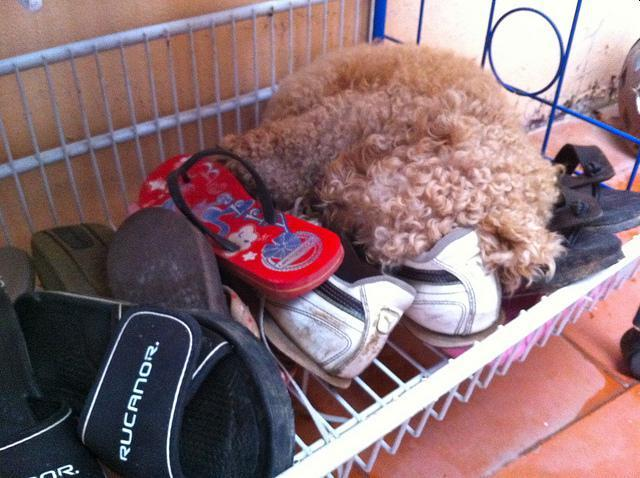dog: (215, 41, 562, 285)
